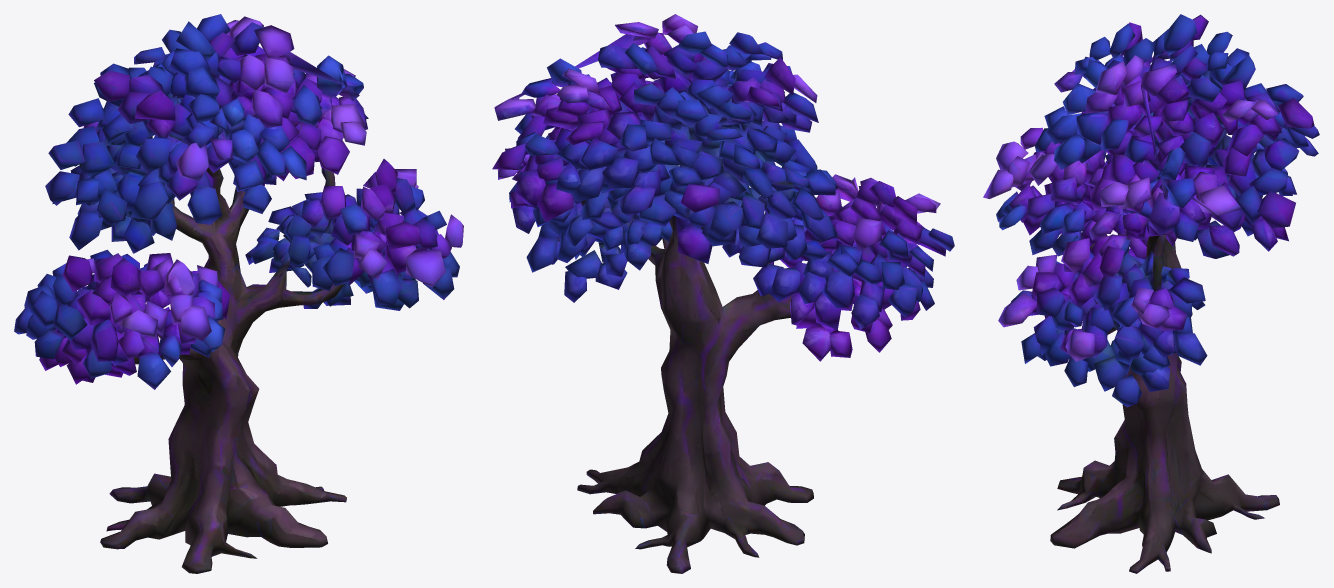
Rendered from purple-trees.glb.
3 views of the same model, side by side, from view 1: azimuth 30°, elevation 25°; view 2: azimuth 150°, elevation 25°; view 3: azimuth 270°, elevation 25° (orthographic).
Parts seen in each view (by area): view 1: mesh_node; view 2: mesh_node; view 3: mesh_node.
Part boxes in pixels (left/top/right/bottom): mesh_node: left=14, top=14, right=463, bottom=573; mesh_node: left=492, top=14, right=954, bottom=573; mesh_node: left=983, top=14, right=1319, bottom=573.
Size of the model in its own units: 0.8906 by 1 by 0.6113.
1 material, 1 textured.
